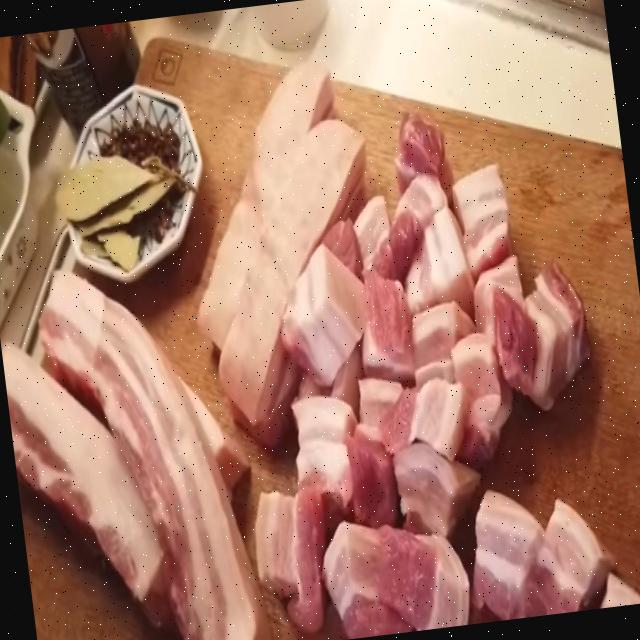meat: (36, 273, 257, 640), (218, 120, 366, 440), (196, 59, 340, 359), (3, 348, 167, 603), (323, 522, 469, 629), (494, 259, 594, 402), (283, 243, 362, 388), (523, 503, 610, 617), (257, 493, 325, 626), (474, 489, 536, 620), (345, 381, 401, 517), (292, 400, 350, 529), (401, 210, 472, 310), (389, 454, 479, 532), (453, 333, 506, 465), (455, 161, 513, 269), (363, 270, 415, 384), (394, 112, 446, 189)
